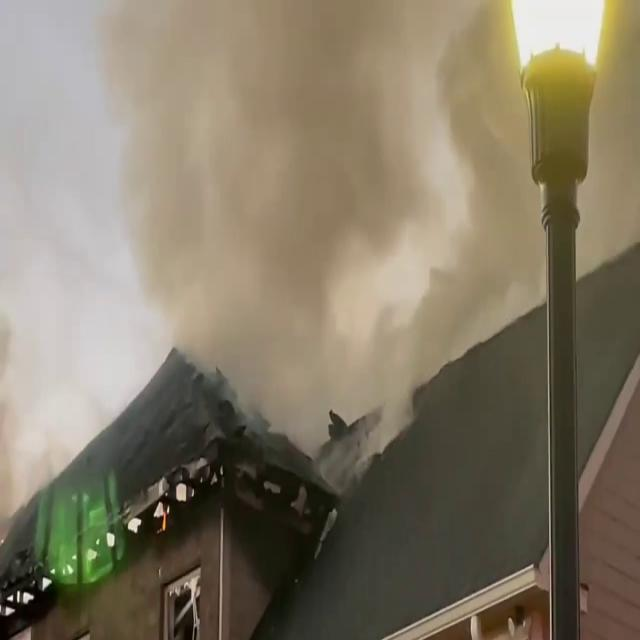Smoke: (130, 0, 532, 422)
